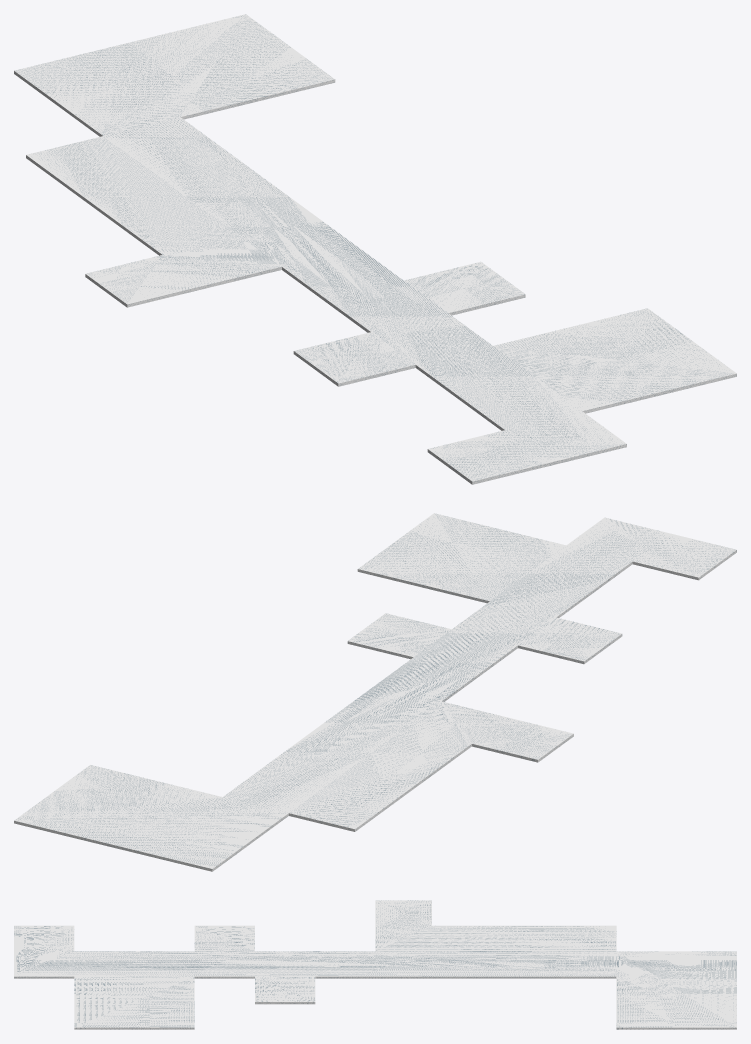
File: KeyFull2.fbx
The picture shows the model from 3 angles, top to bottom: view 1: azimuth 30°, elevation 25°; view 2: azimuth 150°, elevation 25°; view 3: azimuth 270°, elevation 25°; orthographic projection. The views are drawn at different scales.
Visible parts, largest first — view 1: Model; view 2: Model; view 3: Model.
Part boxes in pixels (bbox=[...]): Model: bbox=[14, 14, 736, 484]; Model: bbox=[14, 513, 736, 871]; Model: bbox=[14, 900, 736, 1029].
Size of the model in its own units: 125 by 1 by 300.
